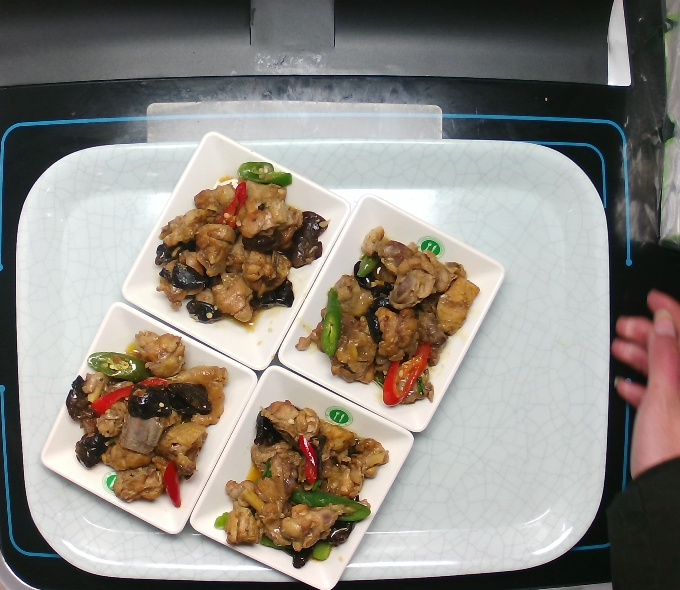wcq-LaZiJi: (288, 224, 483, 413), (149, 152, 332, 334), (60, 325, 231, 517), (211, 396, 395, 574)
